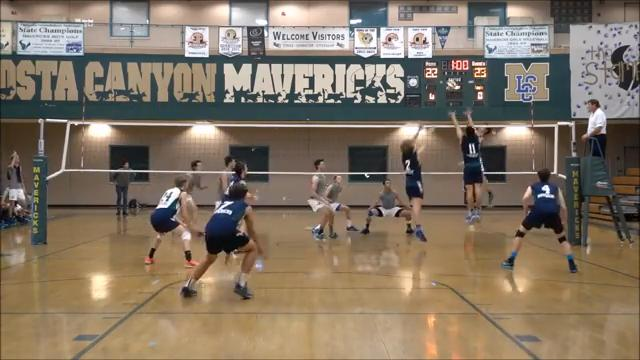Attack: (473, 119, 499, 209)
Block: (443, 104, 494, 229), (397, 121, 436, 245)
Player: (181, 182, 262, 298), (502, 168, 577, 272), (145, 175, 196, 267), (361, 179, 412, 233), (308, 159, 336, 240), (325, 175, 358, 231), (216, 160, 247, 208), (185, 174, 203, 235), (215, 156, 235, 206)
ball: (445, 78, 456, 92)
